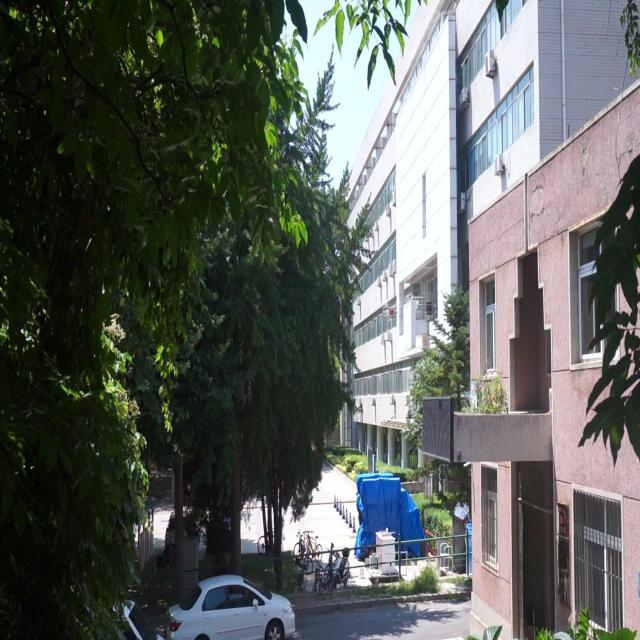drone: (382, 298, 401, 324)
